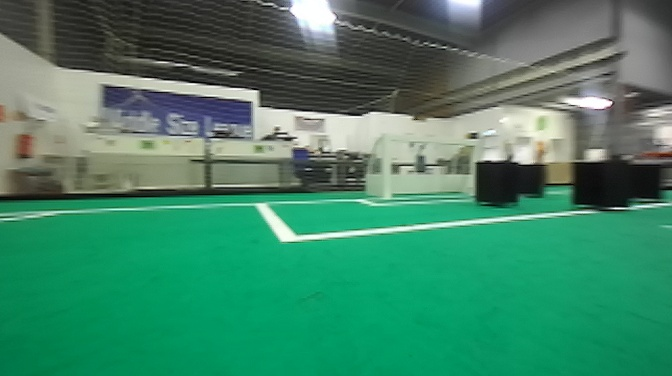goalpost: (461, 134, 474, 187), (380, 137, 390, 203)
